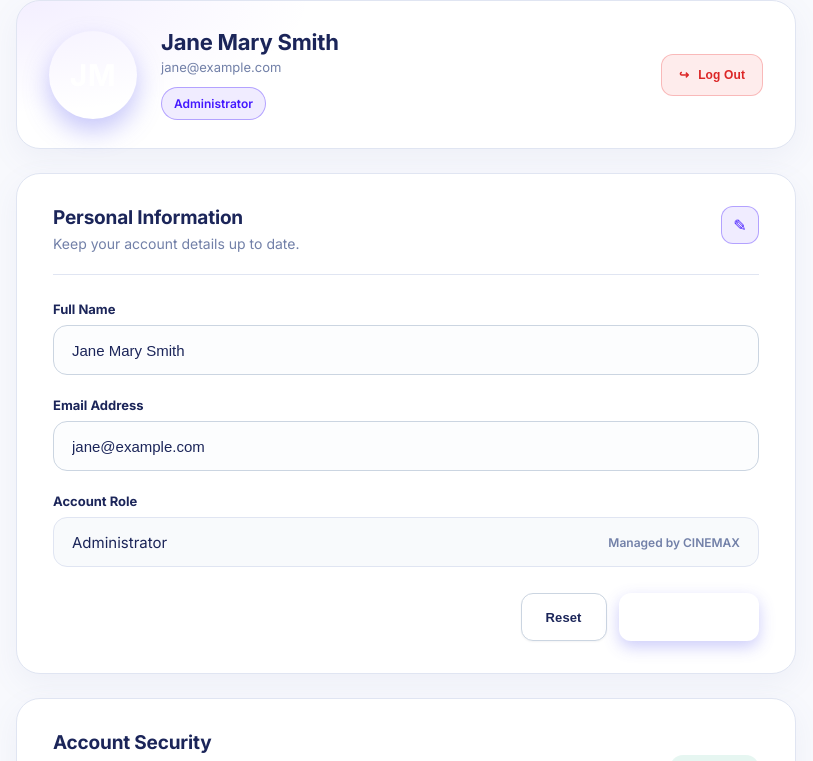
AdminProfile › resets the form to the current user details
Replace the text in the field labelled "Full Name" with "Changed Name" at x=406, y=350, box [53, 325, 759, 375]
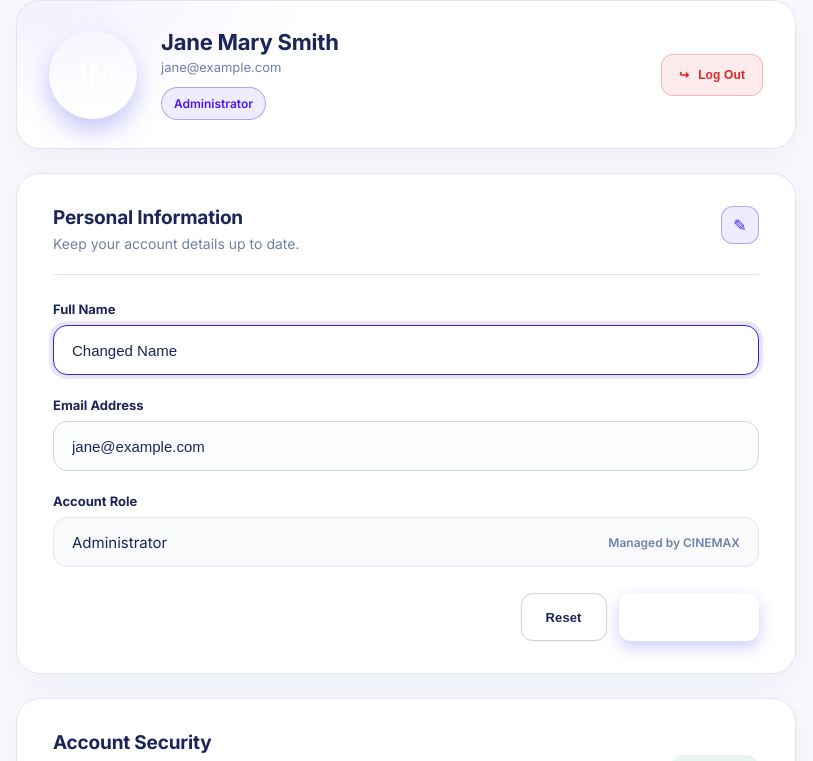
Replace the text in the field labelled "Email Address" with "changed@example.com" at x=406, y=446, box [53, 421, 759, 471]
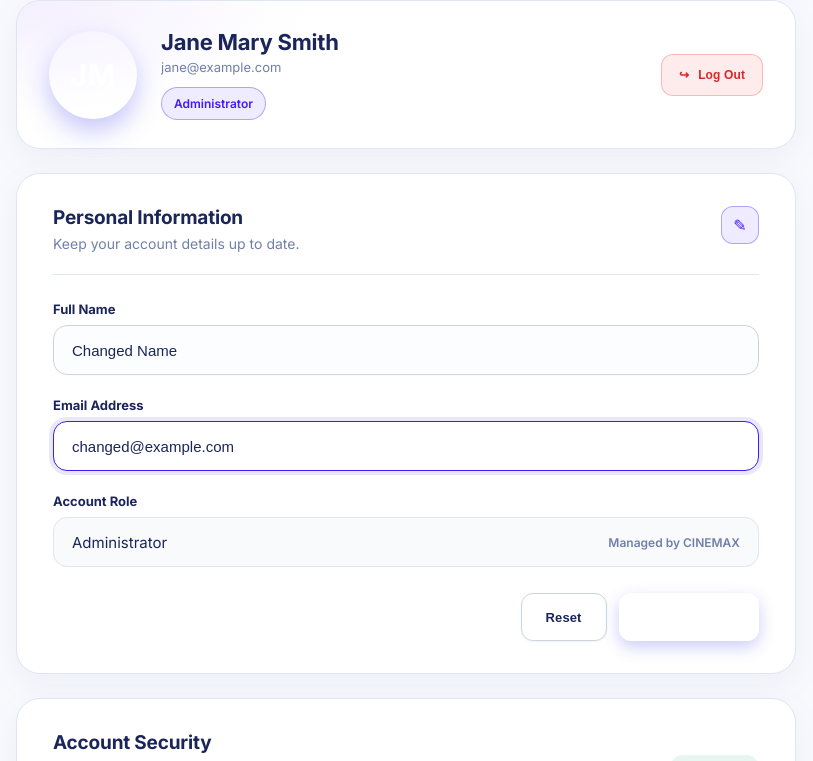
Click the button "Reset" at x=564, y=617, box [520, 593, 607, 641]
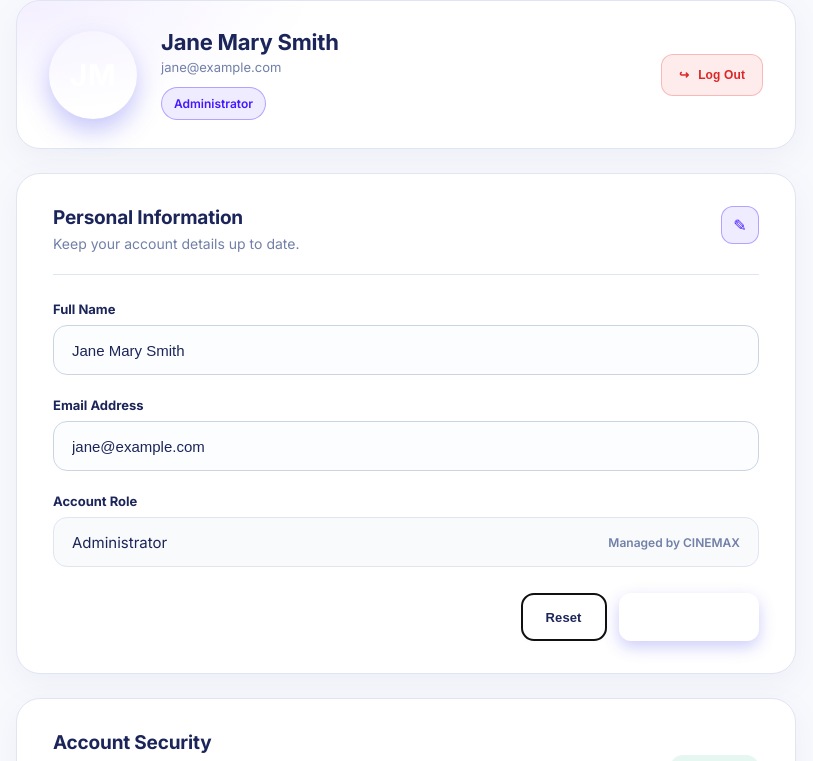
expect the field labelled "Full Name" holds "Jane Mary Smith": met, box [53, 325, 759, 375]
expect the field labelled "Email Address" holds "jane@example.com": met, box [53, 421, 759, 471]
